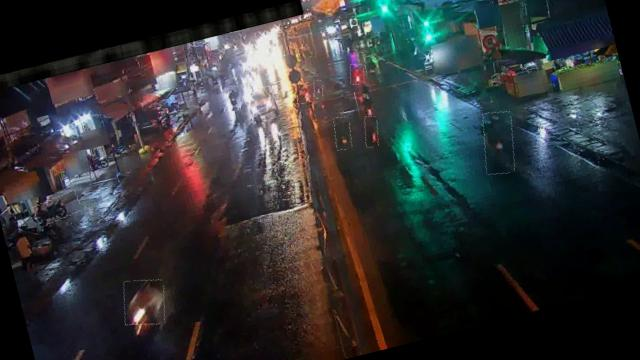Bike: (475, 109, 522, 178), (118, 274, 171, 330), (32, 192, 82, 226), (354, 83, 384, 121), (332, 115, 356, 151), (361, 115, 383, 149), (290, 81, 316, 106), (224, 85, 243, 112), (348, 62, 367, 86), (363, 54, 381, 78), (312, 80, 324, 100)
Car: (244, 86, 281, 125)
